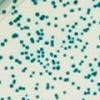Blue_green: (67, 44, 74, 51), (48, 0, 56, 6), (82, 53, 88, 60), (61, 90, 68, 96), (92, 3, 100, 8), (87, 7, 92, 15), (18, 86, 26, 91), (45, 82, 50, 90), (54, 23, 60, 29), (69, 55, 75, 61), (37, 70, 43, 76), (12, 32, 18, 38), (80, 59, 85, 66), (61, 39, 66, 46), (29, 36, 34, 43), (62, 3, 67, 9), (72, 0, 78, 5), (46, 21, 52, 26), (78, 62, 83, 68), (64, 46, 69, 52), (69, 63, 75, 68), (44, 41, 50, 46), (52, 52, 57, 58), (35, 94, 41, 99), (54, 93, 59, 99), (76, 86, 82, 91), (70, 81, 76, 86), (14, 88, 20, 93), (31, 70, 36, 76), (18, 60, 23, 66), (9, 55, 14, 61), (19, 50, 24, 56), (24, 55, 30, 60), (8, 21, 14, 26), (24, 25, 30, 30), (52, 65, 57, 71), (37, 32, 44, 36), (0, 55, 4, 62), (25, 44, 29, 51), (11, 5, 16, 10), (33, 1, 38, 6), (77, 7, 82, 12), (70, 8, 75, 13), (62, 13, 67, 18), (34, 21, 39, 26), (39, 16, 44, 21), (67, 28, 72, 33), (93, 57, 98, 62), (90, 78, 95, 83), (73, 45, 78, 50), (63, 53, 68, 58), (39, 36, 44, 41), (39, 28, 44, 33), (92, 91, 97, 96), (51, 85, 56, 90), (21, 69, 26, 74), (14, 58, 19, 63), (0, 42, 5, 47), (24, 50, 29, 55), (32, 57, 37, 62), (39, 47, 44, 52), (27, 17, 31, 23), (68, 40, 74, 44), (63, 78, 69, 82), (4, 65, 8, 71), (34, 82, 40, 86), (33, 87, 39, 91), (67, 34, 71, 40), (84, 76, 90, 80), (41, 0, 48, 3), (13, 0, 18, 4), (53, 5, 58, 9), (65, 1, 70, 5), (42, 13, 46, 18), (92, 19, 96, 24), (82, 16, 86, 21), (87, 22, 91, 27), (74, 22, 79, 26), (60, 28, 65, 32), (80, 31, 84, 36), (86, 27, 90, 32), (96, 44, 100, 49), (81, 49, 86, 53), (88, 62, 92, 67), (78, 38, 82, 43), (56, 49, 61, 53), (50, 44, 55, 48), (50, 40, 55, 44), (66, 71, 70, 76), (53, 76, 58, 80), (10, 65, 14, 70), (11, 74, 16, 78), (9, 84, 14, 88), (12, 79, 16, 84), (48, 72, 53, 76), (4, 38, 8, 43), (19, 26, 23, 31), (72, 70, 77, 74), (76, 69, 81, 73), (92, 72, 96, 77), (86, 91, 91, 95), (86, 87, 91, 91), (37, 60, 42, 64), (42, 65, 47, 69), (40, 51, 45, 55), (56, 66, 61, 70), (27, 31, 30, 37), (2, 10, 6, 14), (11, 11, 15, 15), (54, 16, 58, 20), (36, 12, 40, 16), (90, 15, 94, 19), (72, 25, 76, 29), (66, 24, 70, 28), (70, 36, 74, 40), (74, 32, 78, 36), (82, 28, 86, 32), (83, 46, 87, 50), (86, 42, 90, 46), (60, 45, 64, 49), (76, 38, 80, 42), (35, 30, 39, 34), (50, 35, 54, 39), (8, 95, 12, 99), (1, 96, 5, 100), (29, 74, 33, 78), (45, 69, 49, 73), (19, 40, 23, 44), (21, 43, 25, 47), (13, 19, 17, 23), (16, 17, 20, 21), (18, 14, 22, 18), (17, 23, 21, 27), (74, 67, 78, 71), (83, 92, 87, 96), (96, 82, 100, 86), (47, 63, 51, 67), (45, 58, 49, 62), (30, 53, 34, 57), (30, 60, 34, 64), (37, 55, 41, 59), (40, 55, 44, 59), (52, 61, 56, 65), (56, 60, 60, 64), (50, 52, 53, 57), (25, 97, 30, 100), (88, 73, 91, 78), (98, 61, 100, 68), (15, 9, 18, 13), (59, 0, 63, 3), (46, 15, 49, 19), (79, 16, 83, 19), (91, 67, 94, 71), (36, 40, 40, 43), (80, 98, 86, 100), (58, 77, 62, 80), (22, 97, 26, 100), (36, 51, 40, 54), (31, 0, 36, 2), (98, 35, 100, 40), (0, 80, 2, 85), (98, 87, 100, 92), (24, 67, 27, 70), (40, 62, 43, 65), (51, 59, 54, 62), (91, 0, 94, 2)
